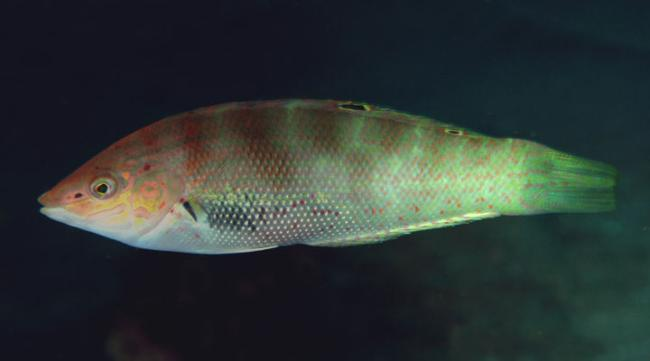fish: (38, 96, 619, 255)
